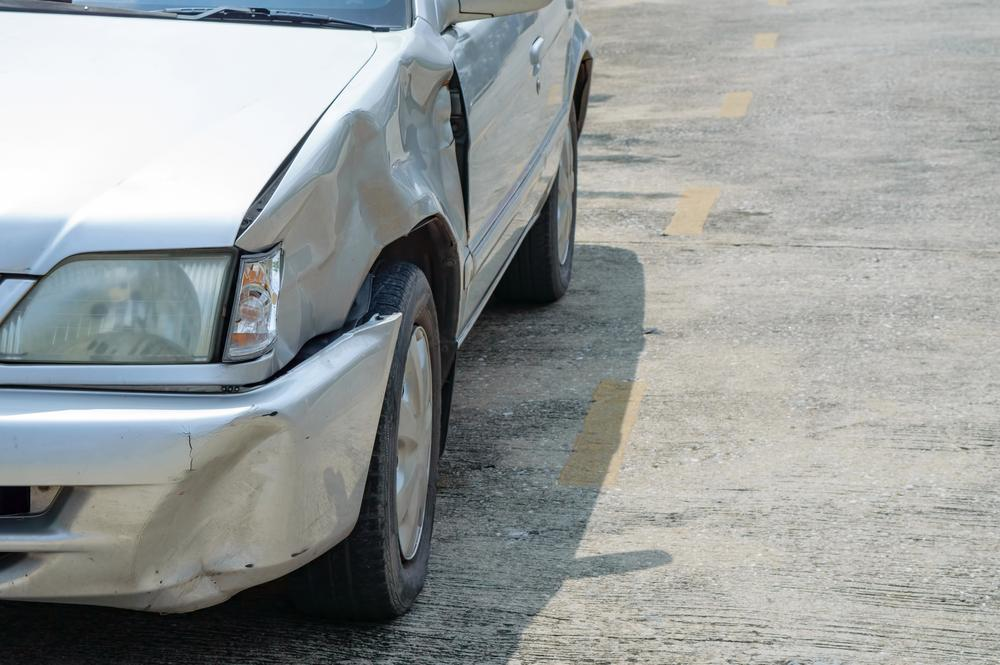dent: (254, 30, 469, 366), (131, 411, 287, 608)
